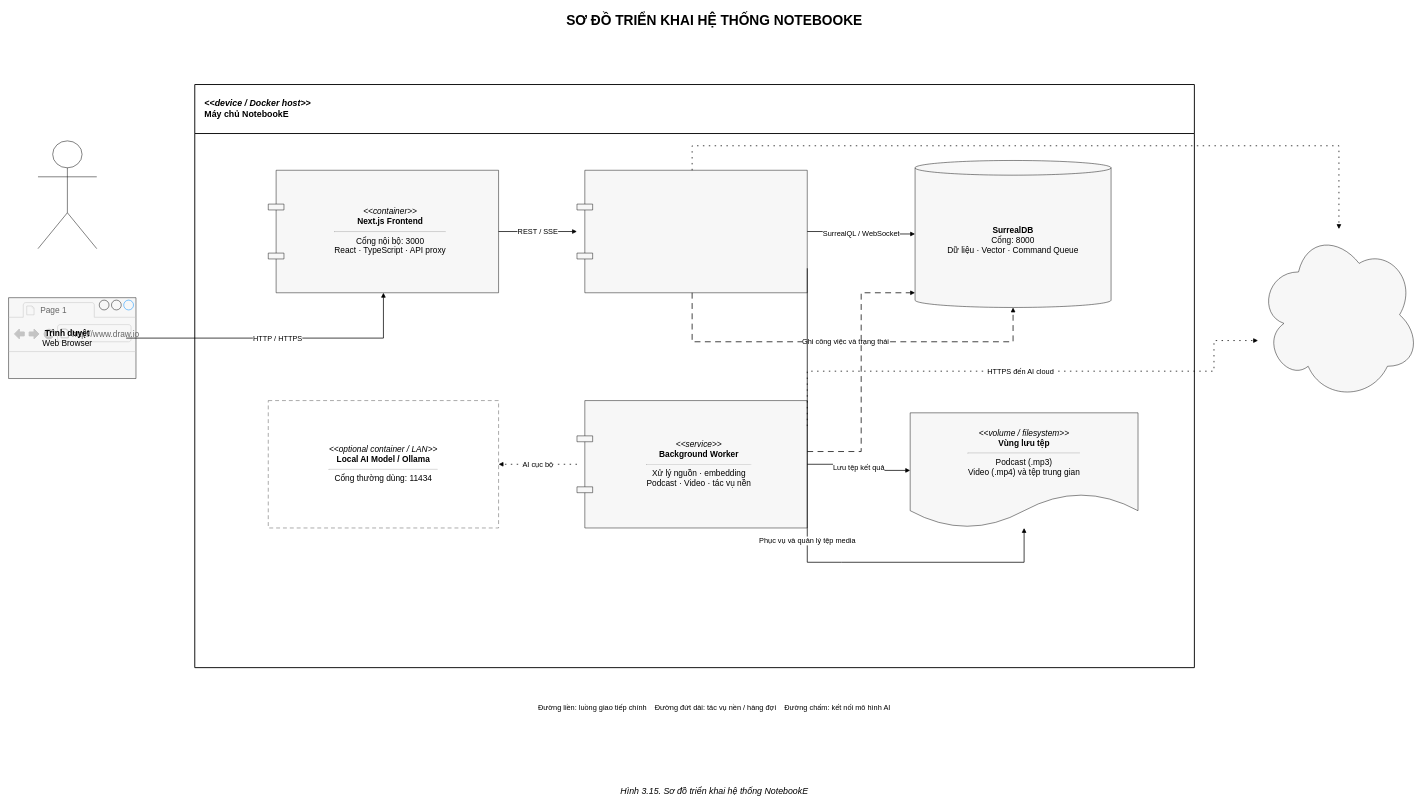
This 1428x810 diagram has some shape labels left out. The centre of each missing label's shape, as x and y in pixels:
"<<container>> FastAPI Backend Cổng: 5055 REST · SSE · LangGraph" belongs at pixel 691 231.
"<<external service>> Nhà cung cấp AI LLM · Embedding · TTS · STT" belongs at pixel 1339 315.
"Người dùng" belongs at pixel 67 194.
